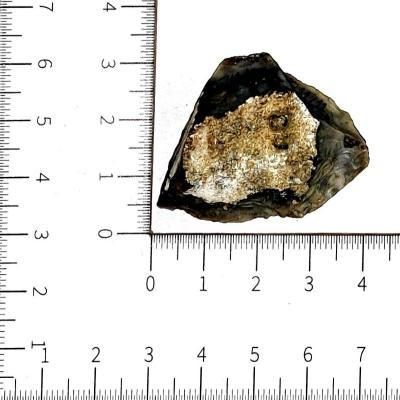archeology: (156, 53, 370, 224)
